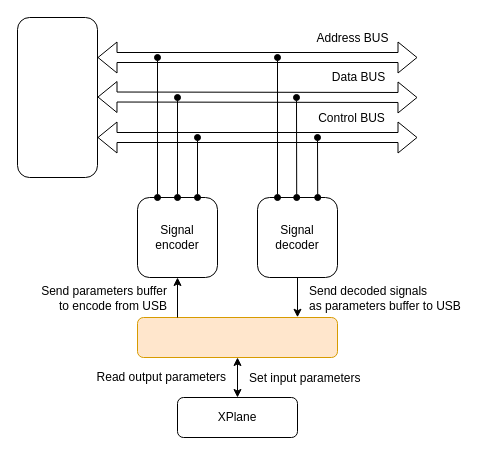
The diagram is 479 pixels wide and 455 high, and some of its shapes have lost their labels. The centre of each missing label's shape, as x and y in pixels:
SM2M computing units: point (57, 97)
XPlane plugin: point (237, 337)
